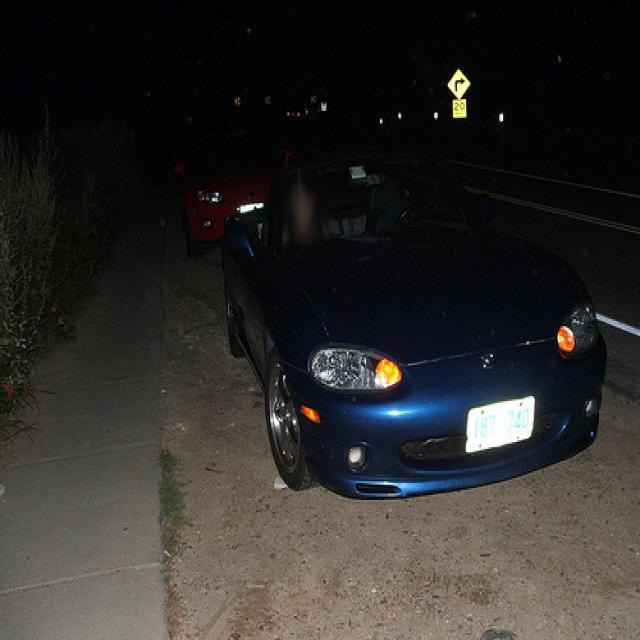Car: (194, 123, 640, 513), (150, 100, 345, 262)
